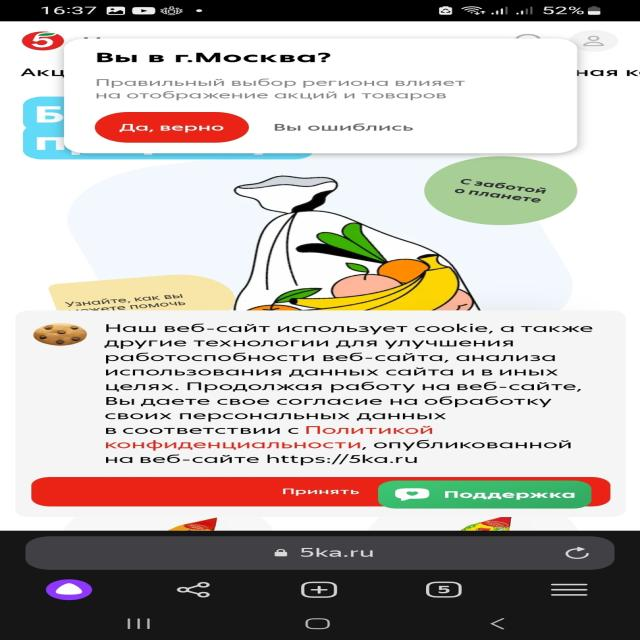button: (31, 478, 611, 506), (94, 112, 246, 143), (264, 113, 431, 141)
site: (15, 311, 621, 516), (64, 40, 577, 153)
